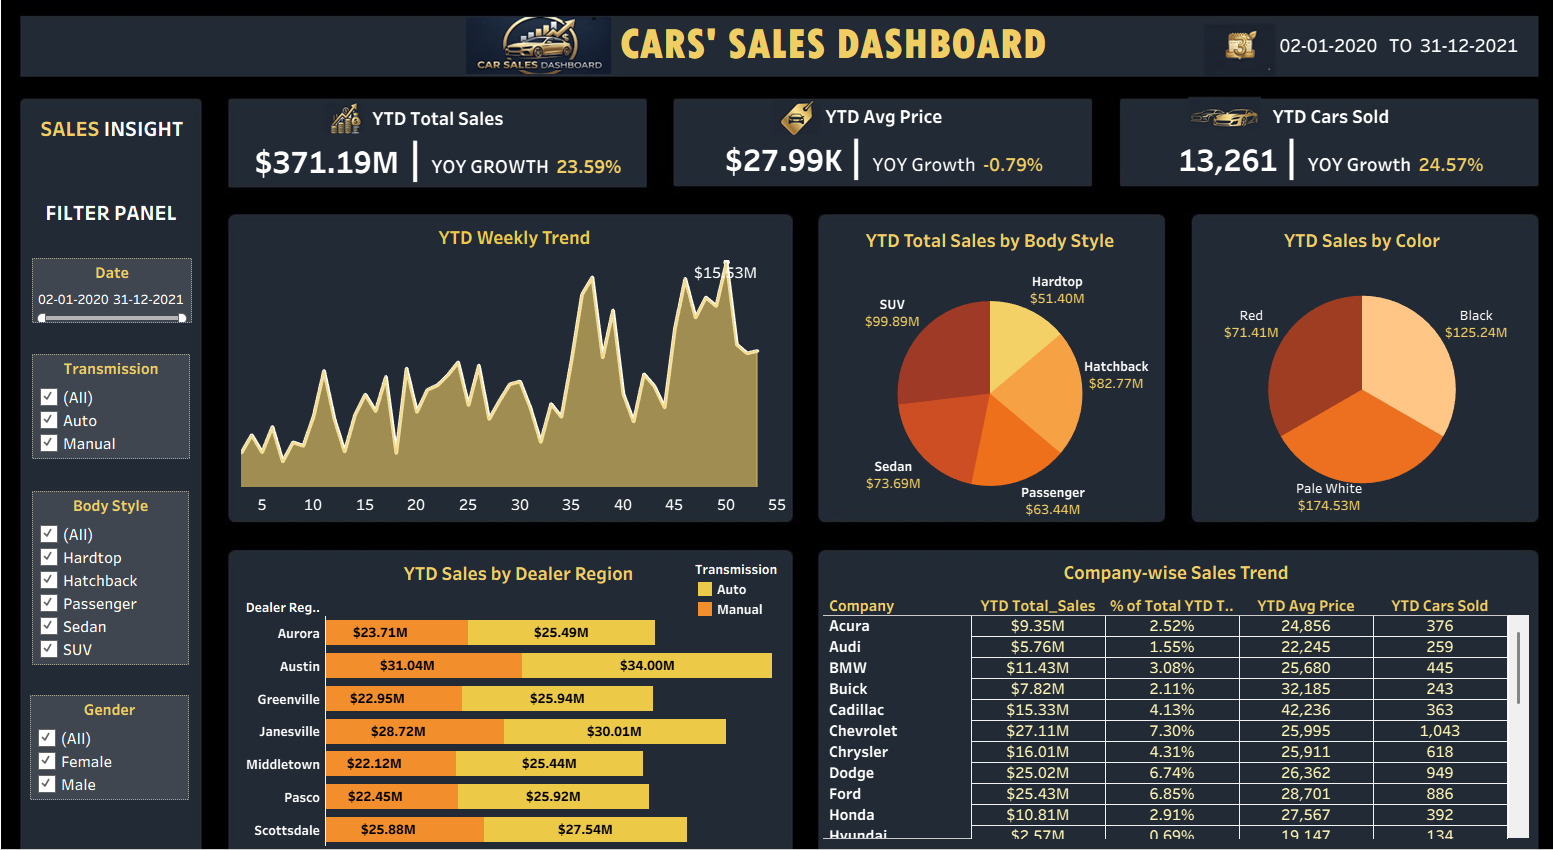

This screenshot's page, from the dashboard's own definition file:
{"tool":"tableau","page":{"name":"Dashboard 1","canvas":[1600,900],"ordinal":0},"visuals":[{"type":"image","param":"C:/Users/shubh/OneDrive/Desktop/Car Sales Project (Tableau)/Car Sales Background","box":[8,8,1584,884]},{"type":"text","box":[616,18,474,77]},{"type":"image","param":"C:/Users/shubh/OneDrive/Pictures/Screenshots 1/Screenshot 2026-11-03 140425.png","box":[486,30,145,67]},{"type":"image","param":"C:/Users/shubh/Downloads/02f78a89-dc88-4673-bf40-0d8f3cd22578.png","box":[1223,36,73,58]},{"type":"worksheet","title":"Date Range","mark":"Automatic","box":[1282,45,264,35]},{"type":"image","param":"C:/Users/shubh/OneDrive/Pictures/Screenshots 1/Screenshot 2026-11-03 140024.png","box":[1208,109,73,46]},{"type":"worksheet","title":"YTD Total Sales","mark":"Automatic","box":[248,110,419,96]},{"type":"worksheet","title":"YTD Cars Sold","mark":"Automatic","box":[1141,111,420,89]},{"type":"worksheet","title":"YTD Avg Price","mark":"Automatic","box":[694,113,419,86]},{"type":"image","param":"C:/Users/shubh/OneDrive/Pictures/Screenshots 1/Screenshot 2026-11-03 140014.png","box":[791,113,51,46]},{"type":"image","param":"C:/Users/shubh/OneDrive/Pictures/Screenshots 1/Screenshot 2026-11-03 140001.png","box":[342,114,43,35]},{"type":"text","box":[57,126,150,30]},{"type":"text","box":[56,210,150,30]},{"type":"worksheet","title":"YTD Weekly Trend","mark":"Area","rows":["Calculation_1903592115310592","Calculation_1903592115310592"],"cols":["Date"],"box":[261,233,547,297]},{"type":"worksheet","title":"YTD Total Sales by Body Style","mark":"Pie","box":[837,236,346,301]},{"type":"worksheet","title":"YTD Sales by Color","mark":"Pie","box":[1210,236,344,293]},{"type":"filter","title":"YTD Weekly Trend","param":"[federated.0rh9i8c0mw756119jb1r919l4zjd].[none:Date:qk]","box":[52,271,160,65]},{"type":"filter","title":"YTD Weekly Trend","param":"[federated.0rh9i8c0mw756119jb1r919l4zjd].[none:Transmission:nk]","box":[52,367,158,105]},{"type":"filter","title":"YTD Weekly Trend","param":"[federated.0rh9i8c0mw756119jb1r919l4zjd].[none:Body Style:nk]","box":[52,504,157,174]},{"type":"worksheet","title":"Company-wise Sales Trend","mark":"Automatic","rows":["Company"],"box":[843,568,706,284]},{"type":"worksheet","title":"YTD Sales by Dealer Region","mark":"Automatic","rows":["Dealer_Region"],"cols":["Calculation_1903592115310592"],"box":[265,569,547,290]},{"type":"legend","title":"YTD Sales by Dealer Region","param":"[federated.0rh9i8c0mw756119jb1r919l4zjd].[none:Transmission:nk]","box":[715,573,89,59]},{"type":"filter","title":"YTD Weekly Trend","param":"[federated.0rh9i8c0mw756119jb1r919l4zjd].[none:Gender:nk]","box":[50,708,159,105]}]}

Visuals, with their boxes in screenshot pixels (x1, y1, x2, y2), scaled from the page's 1600x900 canvas onto the 1553x850 screenshot:
image: 8, 8, 1545, 842
text: 598, 17, 1058, 90
image: 472, 28, 612, 92
image: 1187, 34, 1258, 89
"Date Range" worksheet: 1244, 42, 1501, 76
image: 1173, 103, 1243, 146
"YTD Total Sales" worksheet: 241, 104, 647, 195
"YTD Cars Sold" worksheet: 1107, 105, 1515, 189
"YTD Avg Price" worksheet: 674, 107, 1080, 188
image: 768, 107, 817, 150
image: 332, 108, 374, 141
text: 55, 119, 201, 147
text: 54, 198, 200, 227
"YTD Weekly Trend" worksheet (Area marks): 253, 220, 784, 501
"YTD Total Sales by Body Style" worksheet (Pie marks): 812, 223, 1148, 507
"YTD Sales by Color" worksheet (Pie marks): 1174, 223, 1508, 500
"YTD Weekly Trend" filter: 50, 256, 206, 317
"YTD Weekly Trend" filter: 50, 347, 204, 446
"YTD Weekly Trend" filter: 50, 476, 203, 640
"Company-wise Sales Trend" worksheet: 818, 536, 1503, 805
"YTD Sales by Dealer Region" worksheet: 257, 537, 788, 811
"YTD Sales by Dealer Region" legend: 694, 541, 780, 597
"YTD Weekly Trend" filter: 49, 669, 203, 768
